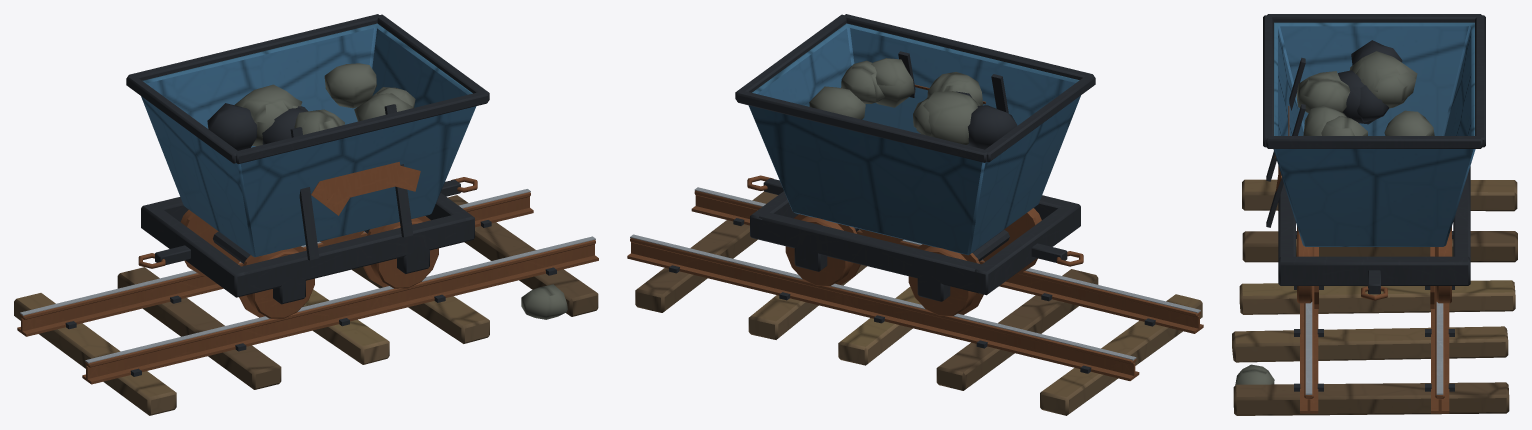
File: mine_cart.glb
3 views of the same model, side by side, from view 1: azimuth 30°, elevation 25°; view 2: azimuth 150°, elevation 25°; view 3: azimuth 270°, elevation 25° (orthographic).
Visible parts, largest first — view 1: mine_cart; view 2: mine_cart; view 3: mine_cart.
Part boxes in pixels (x1,y1,x2,y2): mine_cart: (14,14,598,415); mine_cart: (627,14,1203,415); mine_cart: (1232,14,1517,415).
Size of the model in its own units: 2.7 by 1.18 by 1.31.
10 materials, 10 textured.
